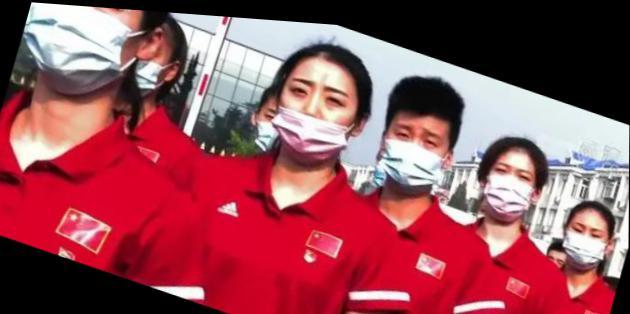OK: (13, 2, 153, 106), (374, 106, 454, 194), (477, 146, 541, 222), (559, 203, 614, 267), (250, 94, 298, 155)
WRONG: (268, 58, 363, 168)
